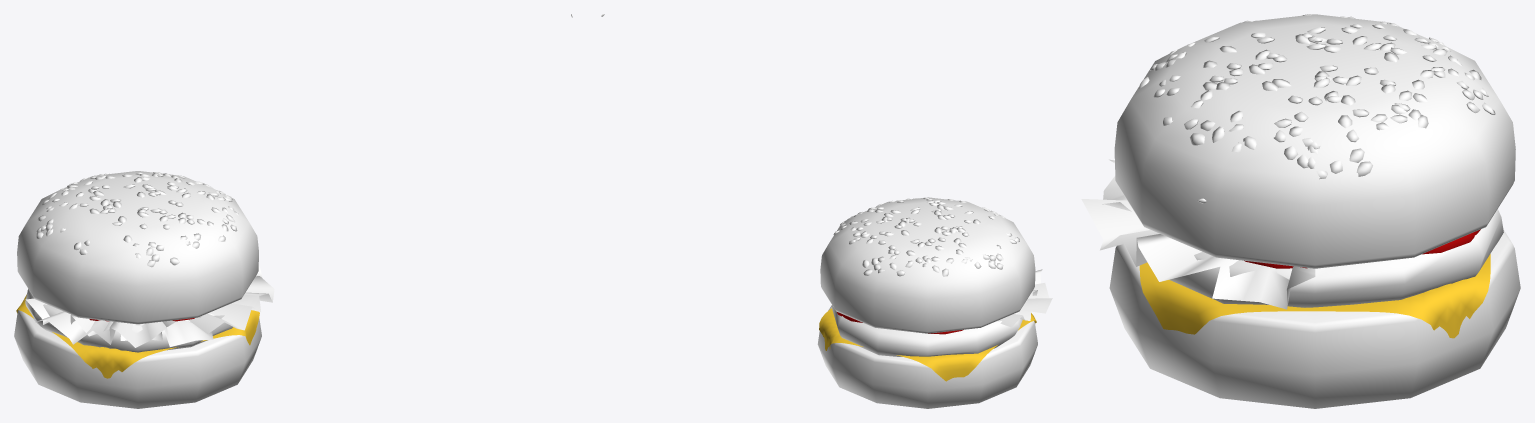
Rendered from hamburger_1.glb.
The picture shows the model from 3 angles, left to right: view 1: azimuth 30°, elevation 25°; view 2: azimuth 150°, elevation 25°; view 3: azimuth 270°, elevation 25°; orthographic projection. The views are drawn at different scales.
Parts seen in each view (by area): view 1: top, buttom, veg.002, chesse, veg, meat, veg.001; view 2: top, buttom, meat, chesse, veg.002; view 3: top, buttom, meat, chesse, veg, totato, veg.002.
Part boxes in pixels (<box>): top: <box>17,171,258,324</box>; buttom: <box>14,310,261,408</box>; veg.002: <box>35,311,224,347</box>; chesse: <box>16,294,259,378</box>; veg: <box>188,263,274,333</box>; meat: <box>25,289,232,352</box>; veg.001: <box>23,298,176,340</box>; top: <box>820,197,1035,333</box>; buttom: <box>817,305,1037,408</box>; meat: <box>831,305,1022,356</box>; chesse: <box>819,308,1036,381</box>; veg.002: <box>1021,269,1052,313</box>; top: <box>1114,14,1515,268</box>; buttom: <box>1109,229,1520,408</box>; meat: <box>1169,209,1503,307</box>; chesse: <box>1139,254,1490,338</box>; veg: <box>1081,199,1315,309</box>; totato: <box>1244,229,1480,268</box>; veg.002: <box>1102,159,1131,211</box>.
Size of the model in its own units: 4.97 by 2.54 by 2.2.
